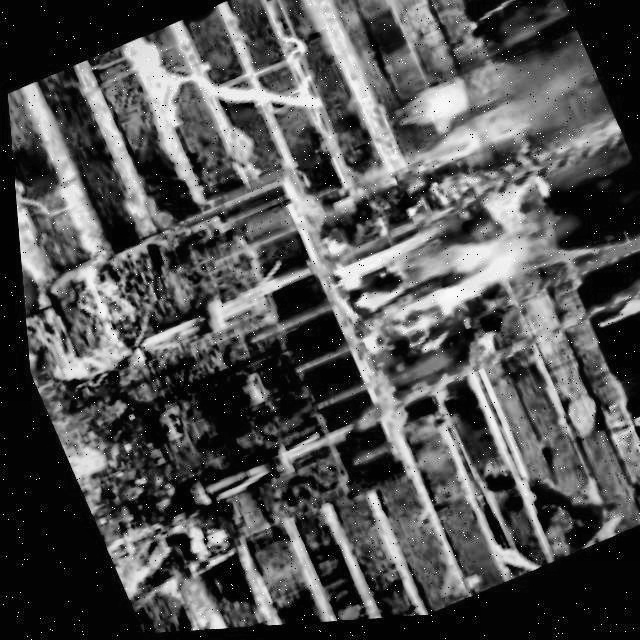Fire: (315, 185, 566, 360)
